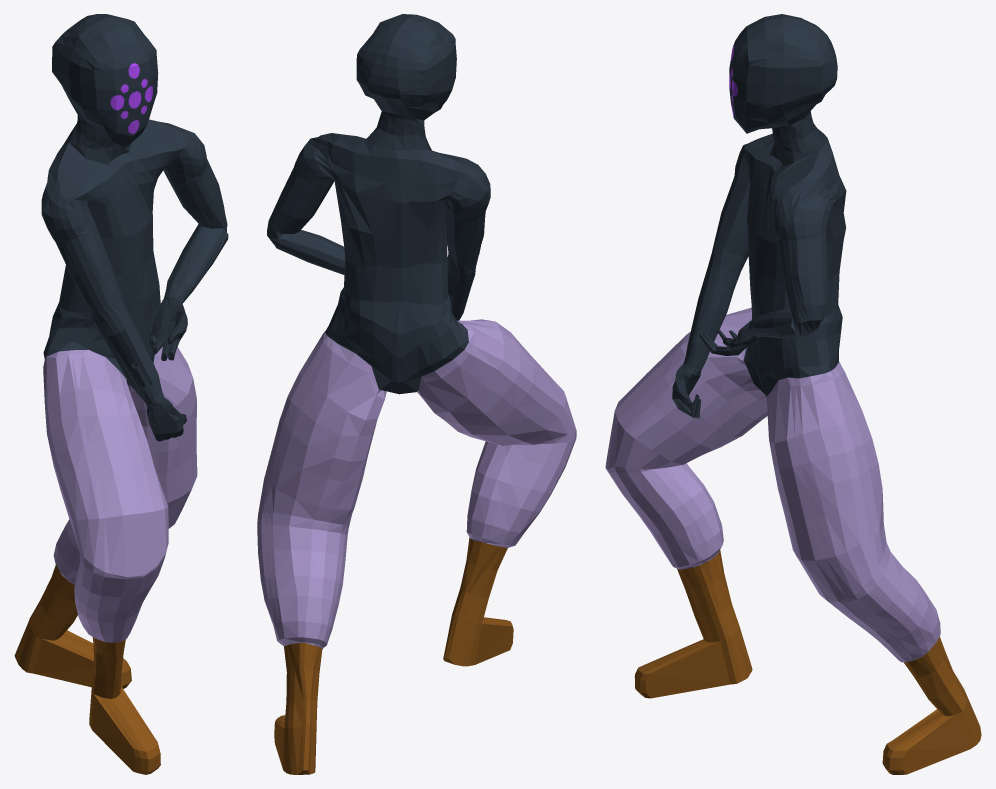
Rendered from Oracle_WB_000019.obj.
3 renders of one model, left to right at view 1: azimuth 30°, elevation 25°; view 2: azimuth 150°, elevation 25°; view 3: azimuth 270°, elevation 25°, orthographic. The views are drawn at different scales.
Visible parts, largest first — view 1: Cube; view 2: Cube; view 3: Cube.
Boxes of the visible parts, box(x1,y1,x2,y2) form: Cube: box(14, 14, 228, 774); Cube: box(257, 14, 576, 774); Cube: box(605, 14, 981, 774).
Size of the model in its own units: 1.23 by 3.73 by 1.76.
